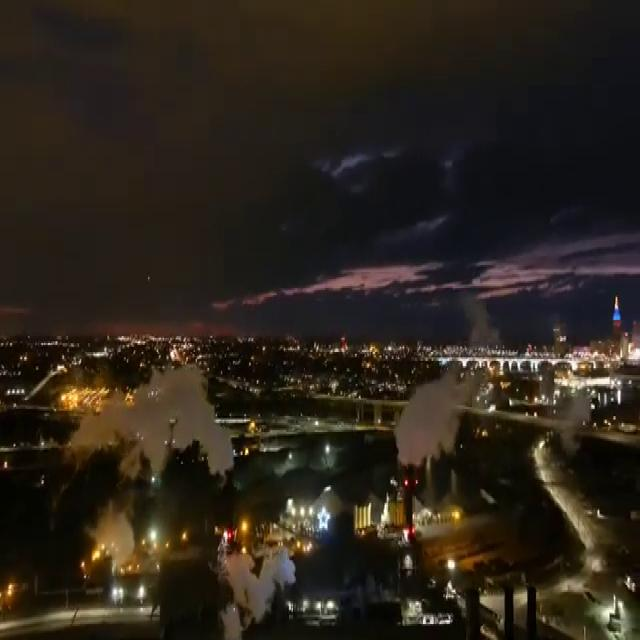smoke: (97, 364, 236, 485), (215, 532, 299, 640), (395, 364, 478, 469), (89, 487, 151, 587)
